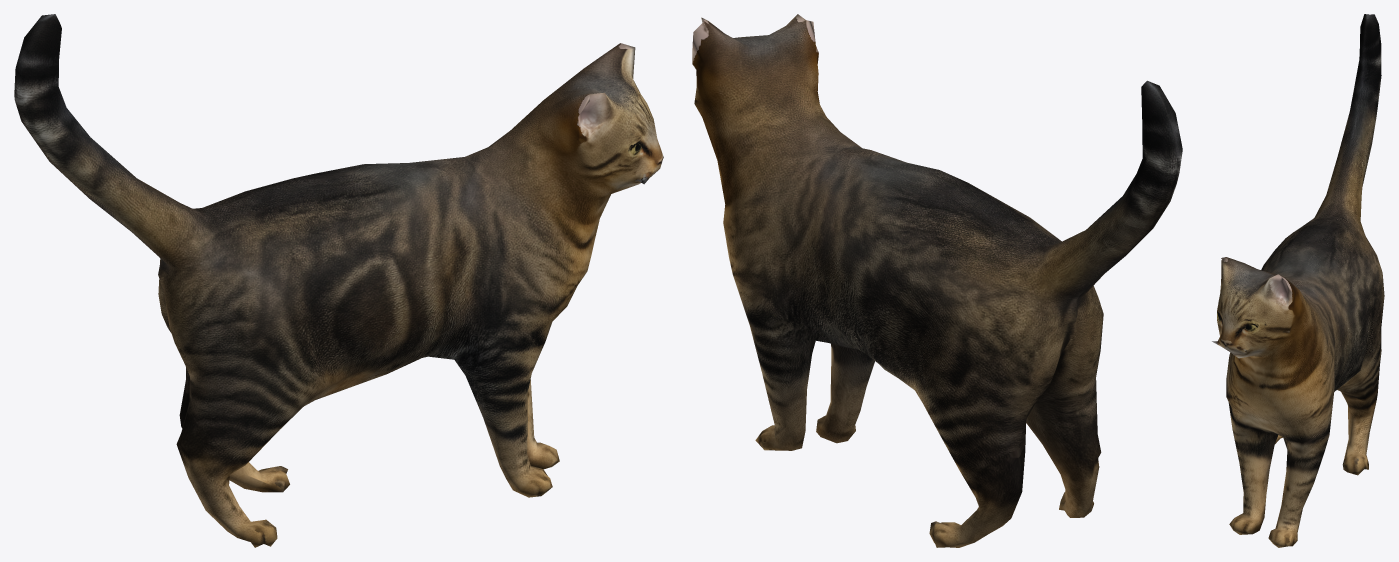
The model's file is cat_single_1500.glb.
3 views of the same model, side by side, from view 1: azimuth 30°, elevation 25°; view 2: azimuth 150°, elevation 25°; view 3: azimuth 270°, elevation 25° (orthographic). The views are drawn at different scales.
Bounding box in the file's own units: 0.8831 × 0.7964 × 0.327.
1 material, 1 textured.
